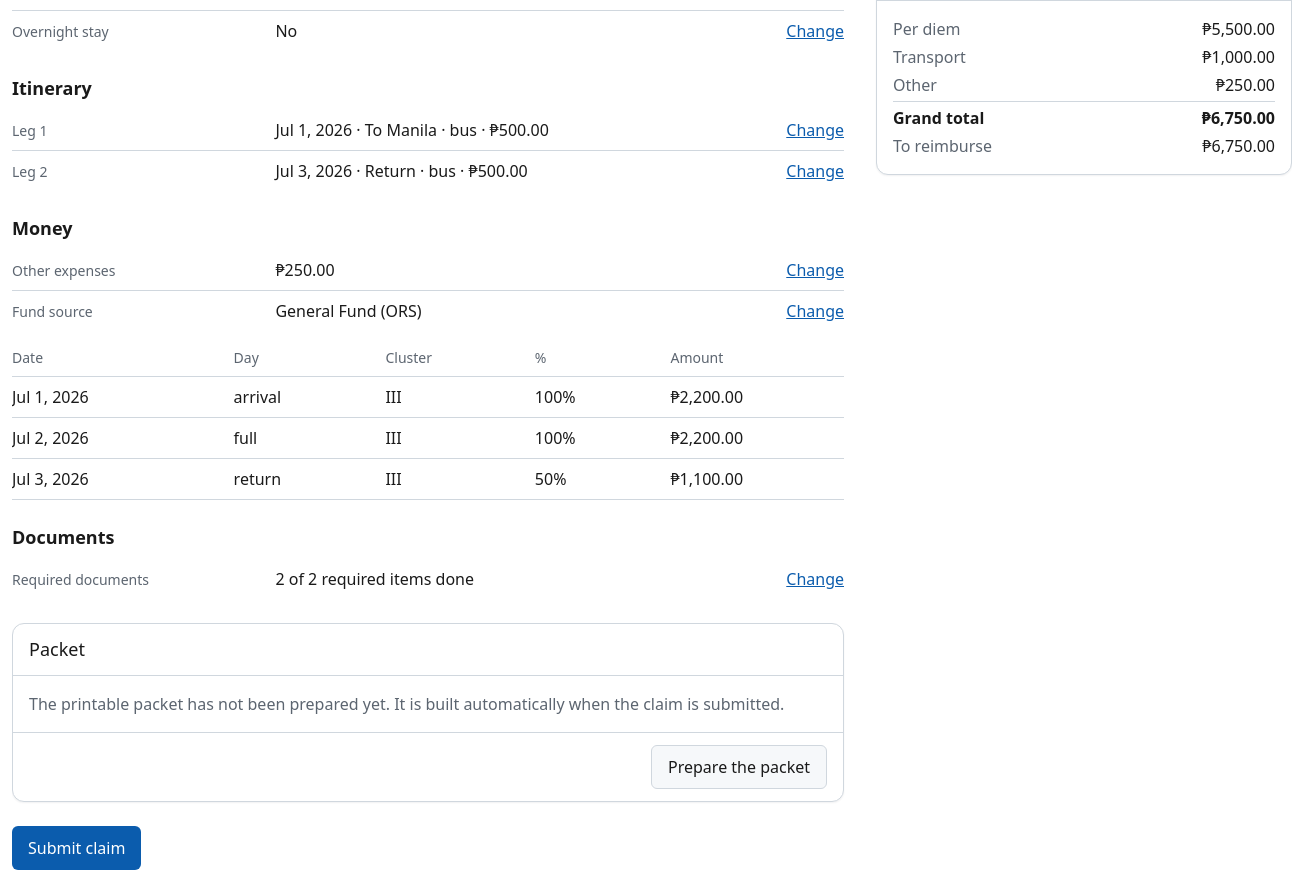
Scenario: the documentary submit gate (spec §2 / §9.3 step 5) › surfaces a 422 from the gate verbatim and re-reads the claim
(page scrolled)
Click the button "Submit claim": coordinates (77, 848) [12,826,141,870]
(page scrolled)
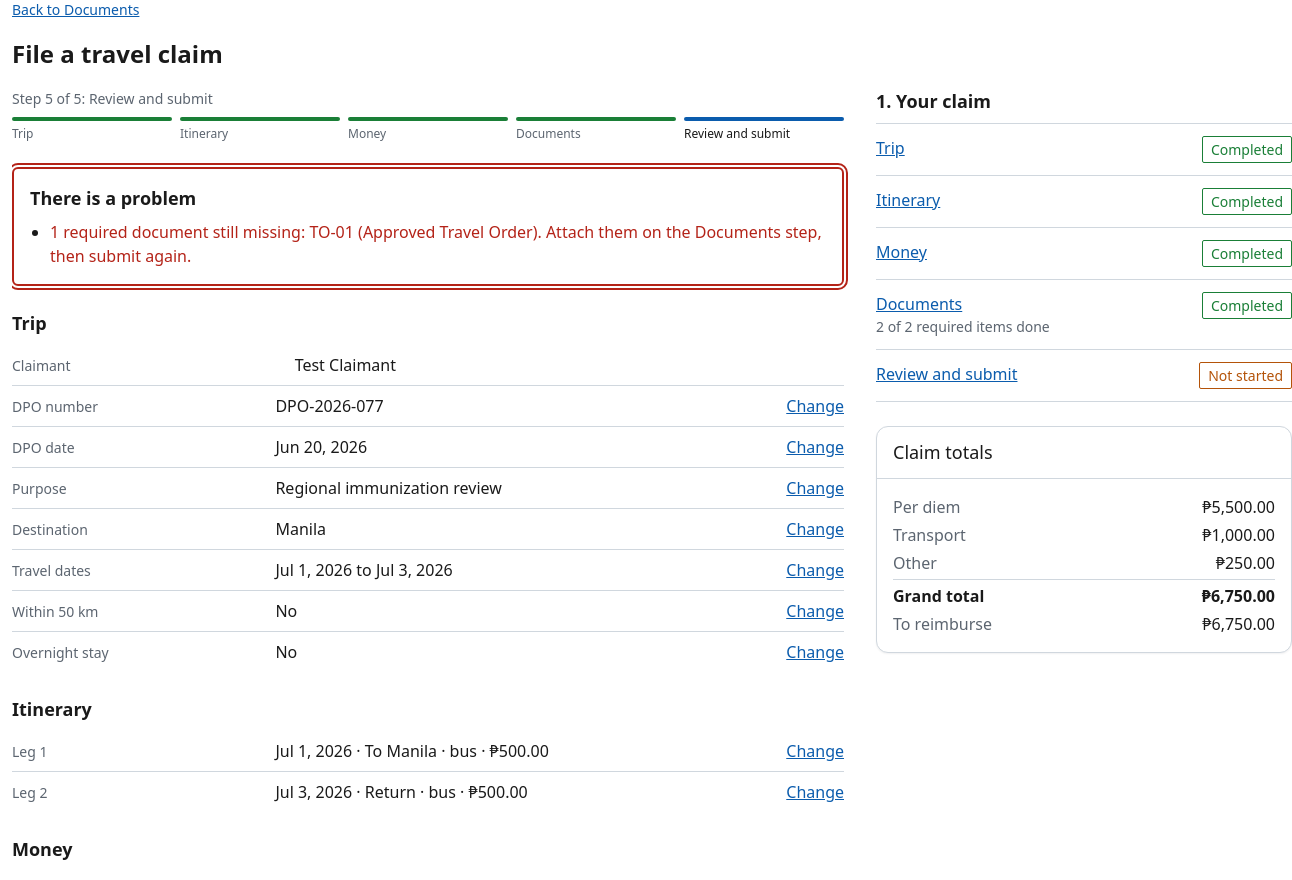
Expected: the text "1 required document still missing" is shown, [50,221,822,267]
